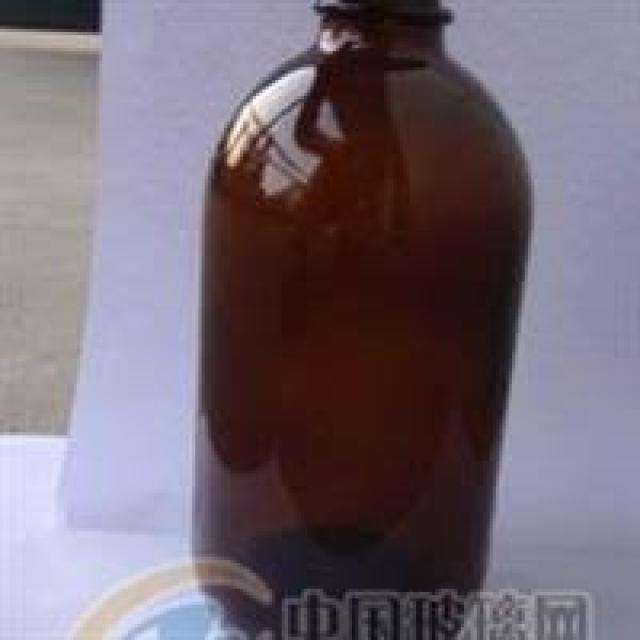glass: (189, 0, 531, 637)
